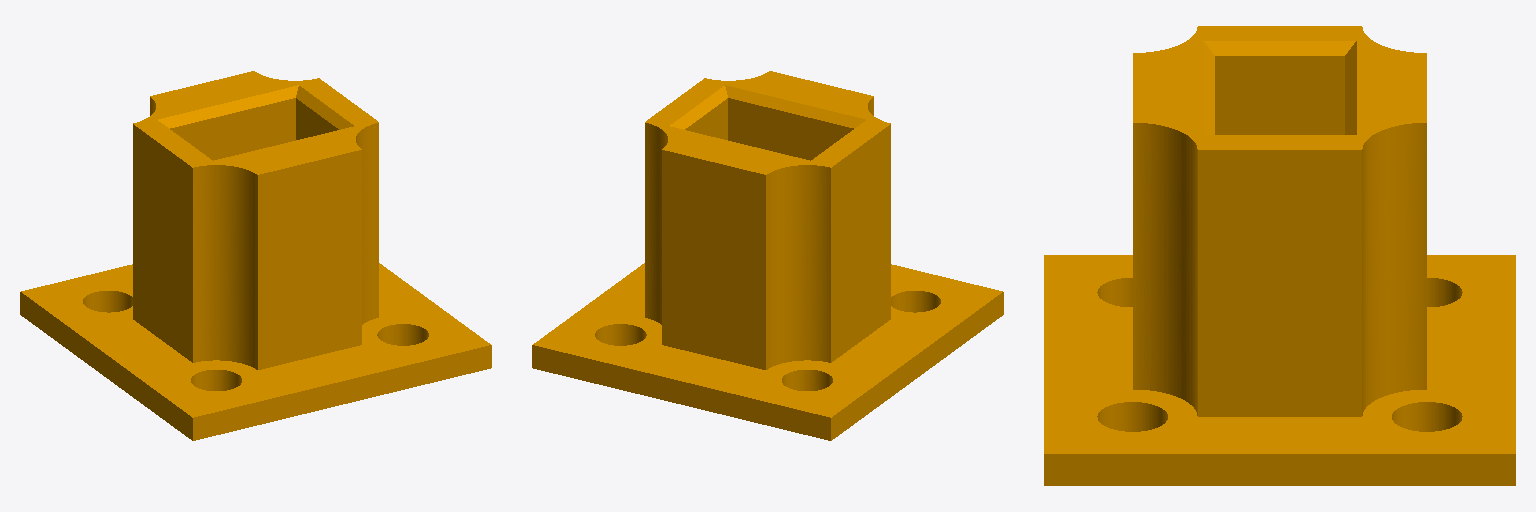
robot.urdf — industreal_tray_insert_rectangular_peg_16mm:
<?xml version="1.0"?>
<robot name="industreal_tray_insert_rectangular_peg_16mm">
    <link name="industreal_tray_insert_rectangular_peg_16mm">
        <visual>
            <geometry>
                <mesh filename="../mesh/industreal_pegs/industreal_tray_insert_rectangular_peg_16mm.obj"/>
            </geometry>
        </visual>
        <collision>
            <geometry>
                <mesh filename="../mesh/industreal_pegs/industreal_tray_insert_rectangular_peg_16mm.obj"/>
            </geometry>
            <sdf resolution="256"/>
        </collision>
    </link>
</robot>

--- What the picture shows (computed from the rendered views, not written in the file) ---
The picture shows the robot from 3 angles, left to right: view 1: azimuth 30°, elevation 25°; view 2: azimuth 150°, elevation 25°; view 3: azimuth 270°, elevation 25°; orthographic projection.
Model industreal_tray_insert_rectangular_peg_16mm with 1 links and 0 joints (none), rooted at industreal_tray_insert_rectangular_peg_16mm, posed every joint at zero.
Visible links, largest first — view 1: industreal_tray_insert_rectangular_peg_16mm; view 2: industreal_tray_insert_rectangular_peg_16mm; view 3: industreal_tray_insert_rectangular_peg_16mm.
Link boxes in pixels (left/top/right/bottom): industreal_tray_insert_rectangular_peg_16mm: left=20, top=71, right=491, bottom=440; industreal_tray_insert_rectangular_peg_16mm: left=532, top=71, right=1003, bottom=440; industreal_tray_insert_rectangular_peg_16mm: left=1044, top=26, right=1515, bottom=485.
Bounding box of the posed robot: 0.04 × 0.04 × 0.028 m (x, y, z).
Meshes: 1 distinct files referenced, 1 mesh visuals loaded (1 OBJ).